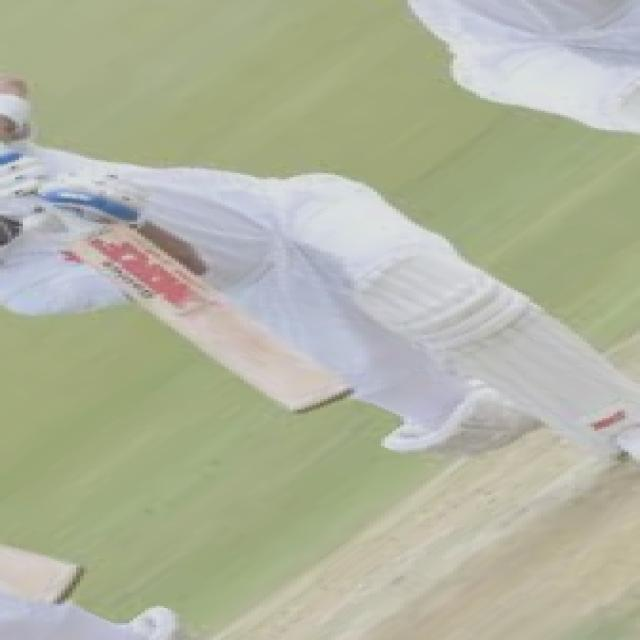bat: (54, 225, 387, 434)
toe: (290, 388, 356, 417)
